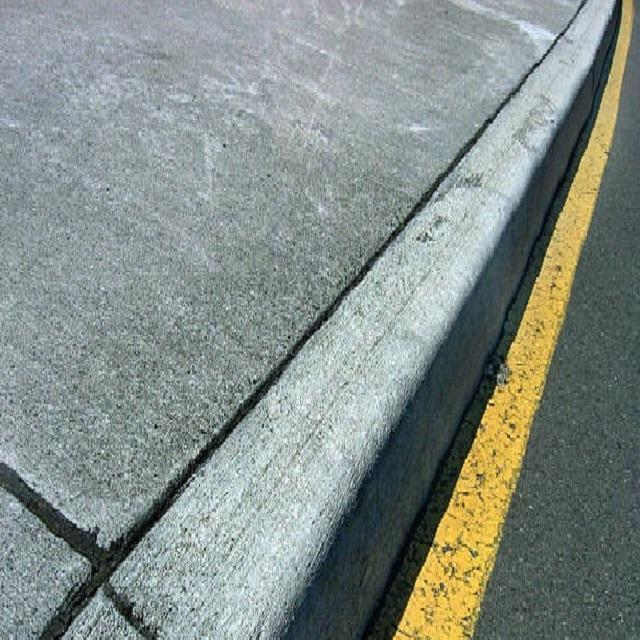curb: (52, 220, 518, 640), (455, 1, 637, 212)
